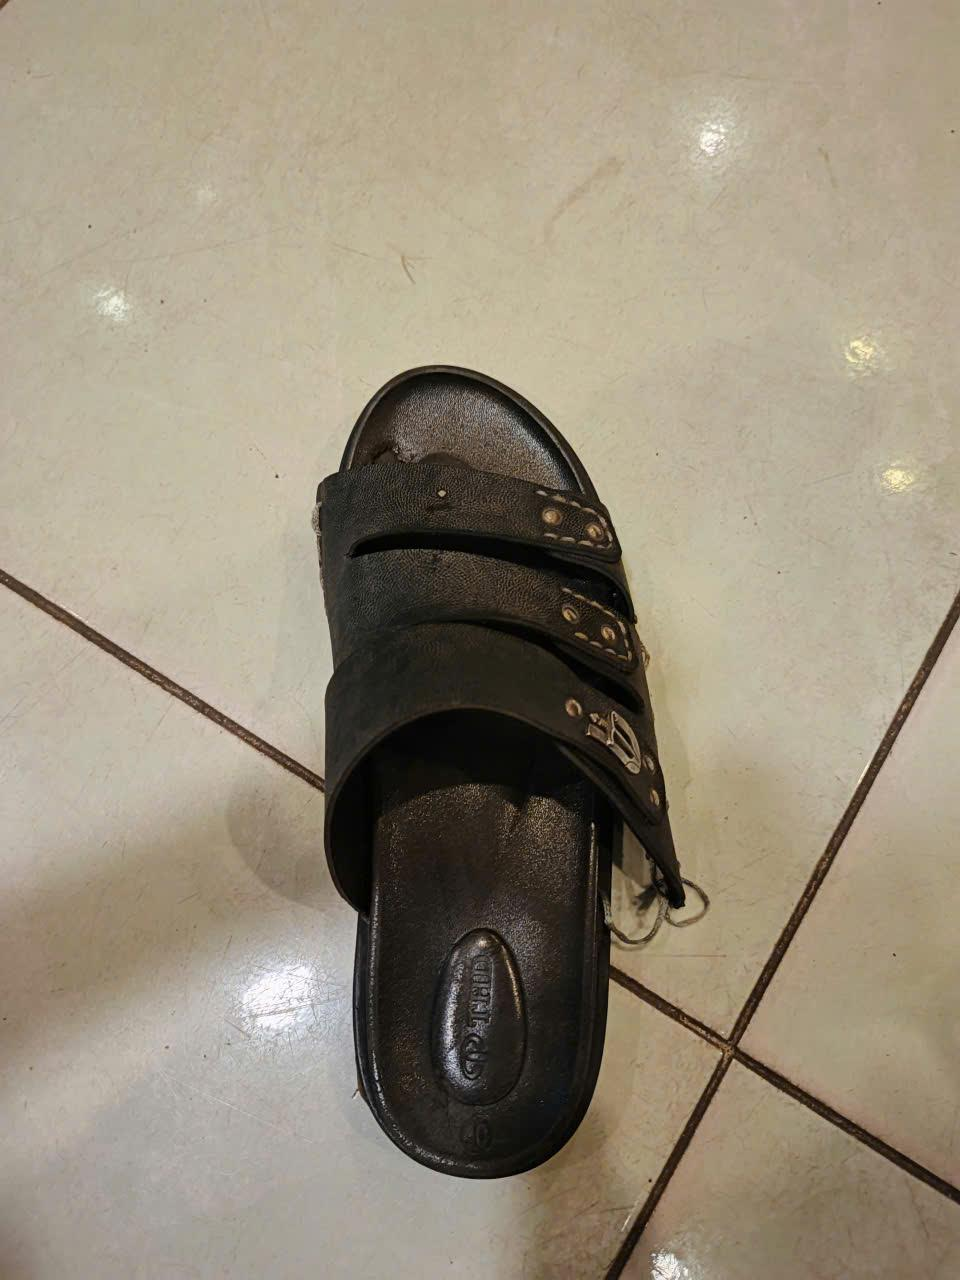Con lai: (320, 356, 686, 1187)
